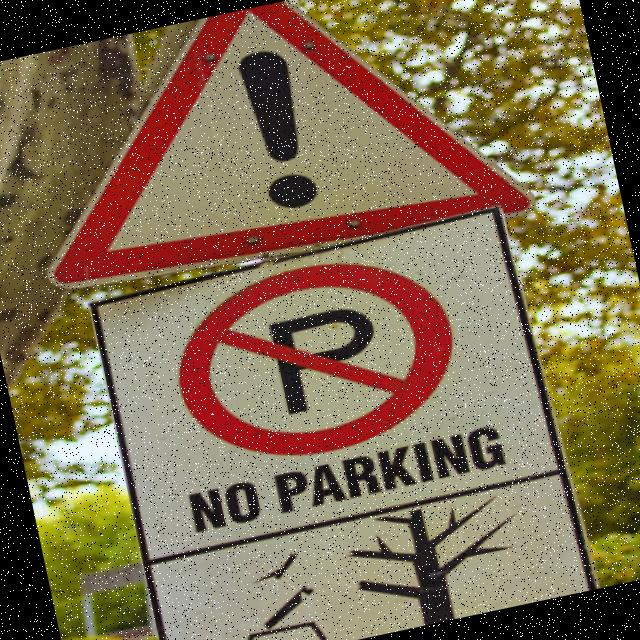warning: (0, 0, 577, 321)
